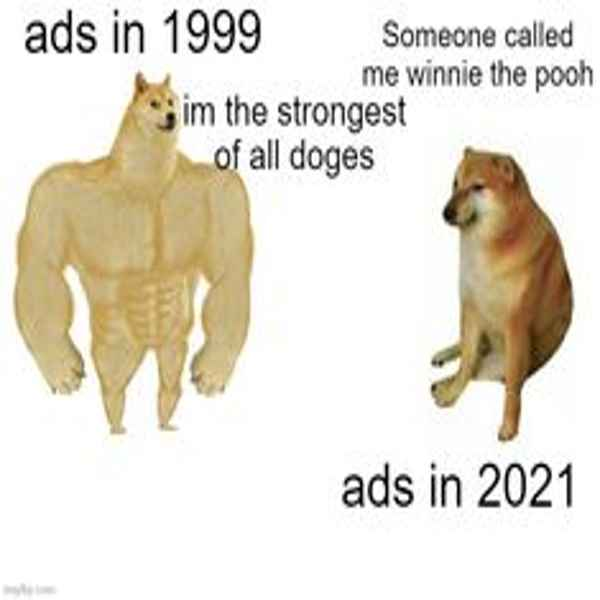doge: (434, 140, 536, 233), (124, 71, 186, 145)
